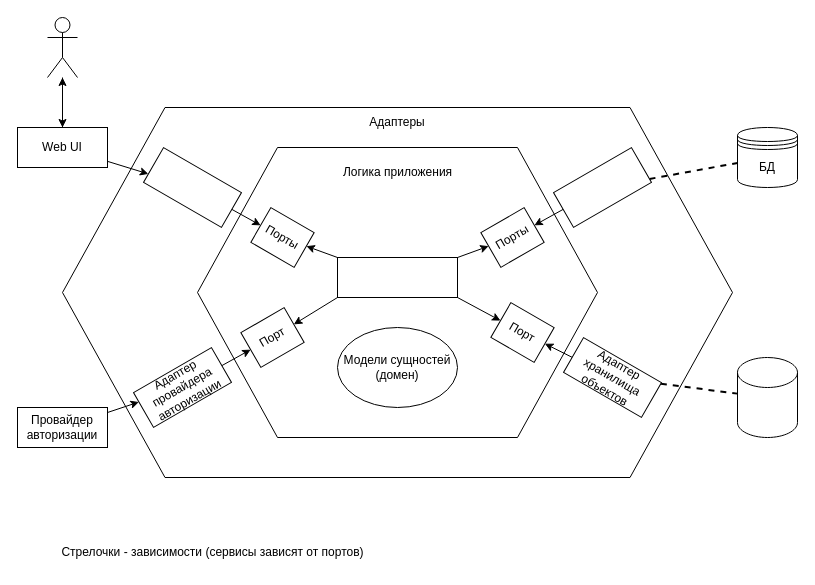
Some shapes in this 815 by 585 pixel diagram are drawn without their labels. The box of each missing label's shape, as (x1, y1, x2, y2) in pixels:
Object: (736, 356, 798, 438)
Адаптеры веб-контроллеров: (142, 146, 242, 228)
Адаптеры репозиториев: (552, 146, 652, 228)
Пользователь: (46, 16, 78, 78)
Сервисы: (336, 256, 458, 298)
